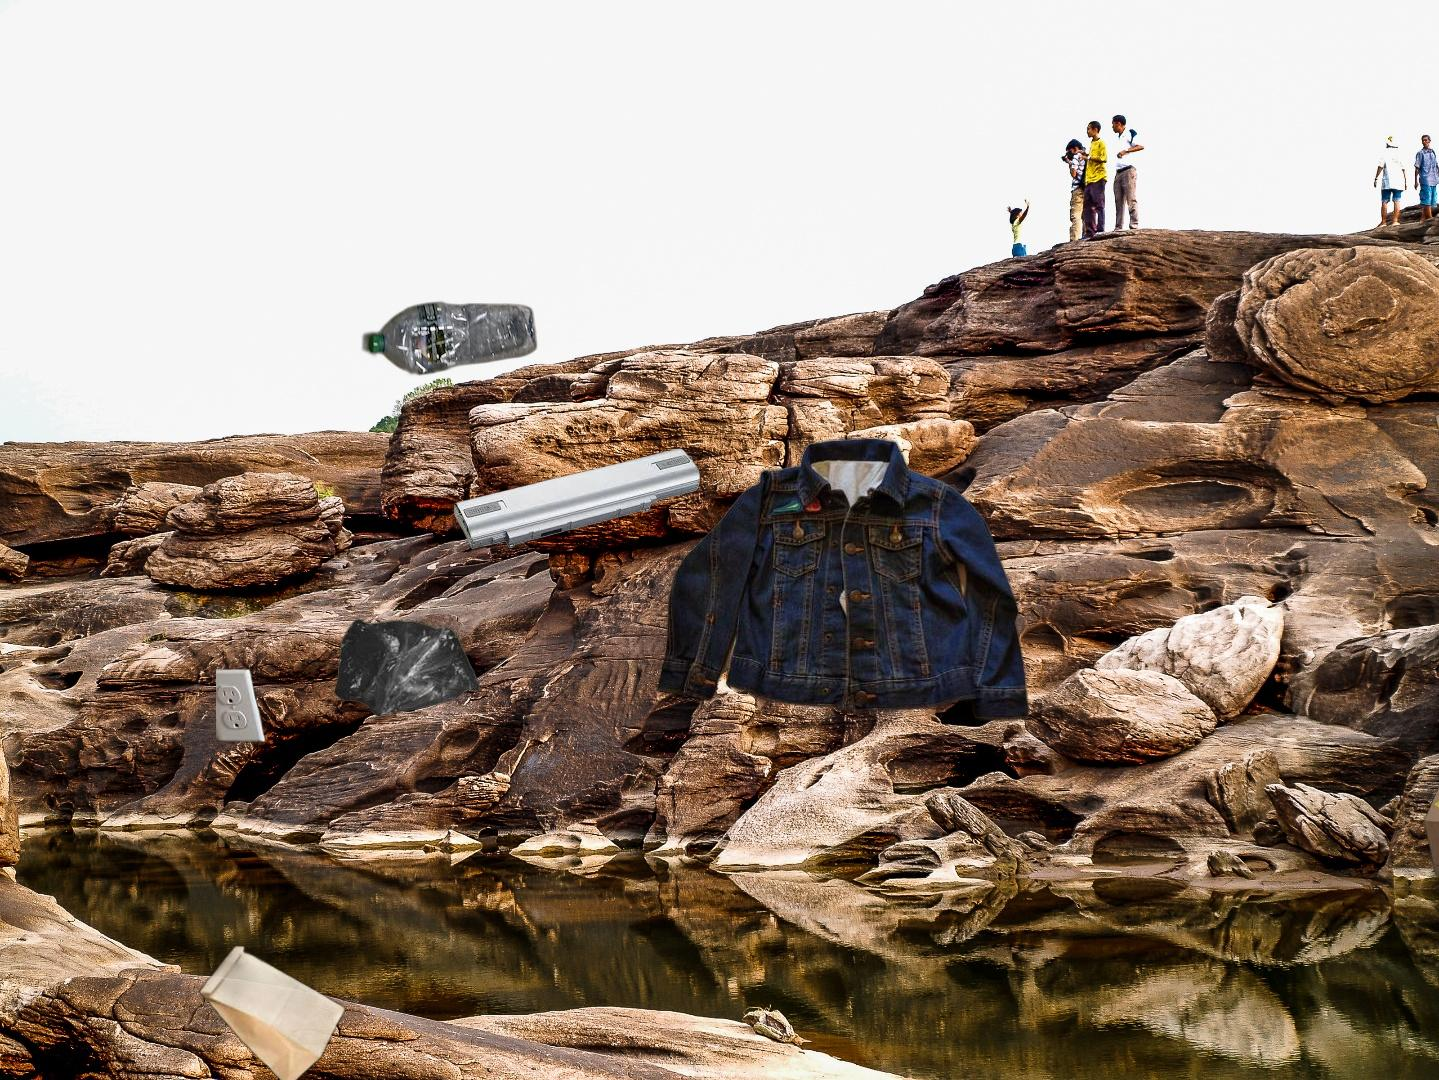battery: (437, 400, 712, 552)
clothes: (654, 434, 1032, 728)
paper-bag: (84, 815, 375, 1080), (1433, 360, 1439, 530)
plastic-bag: (215, 616, 483, 745)
plastic-bottles: (359, 299, 542, 378)
trashbox-cardboard: (1421, 604, 1439, 889)
